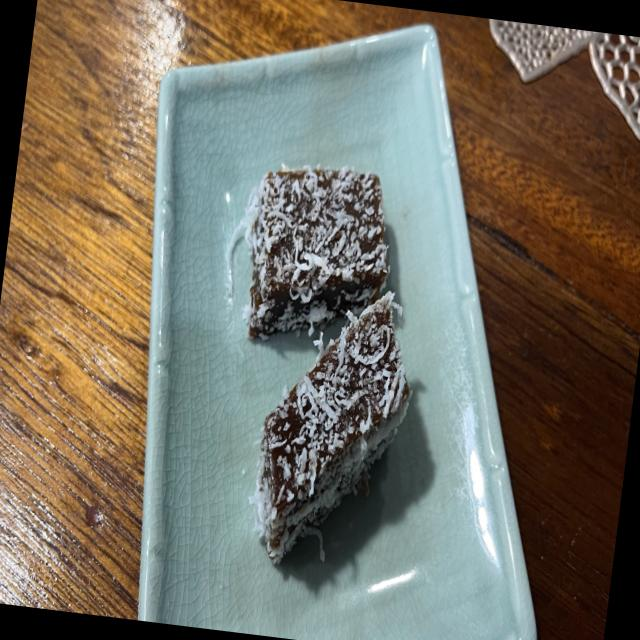kaswi: (250, 290, 411, 563), (243, 166, 388, 338)
